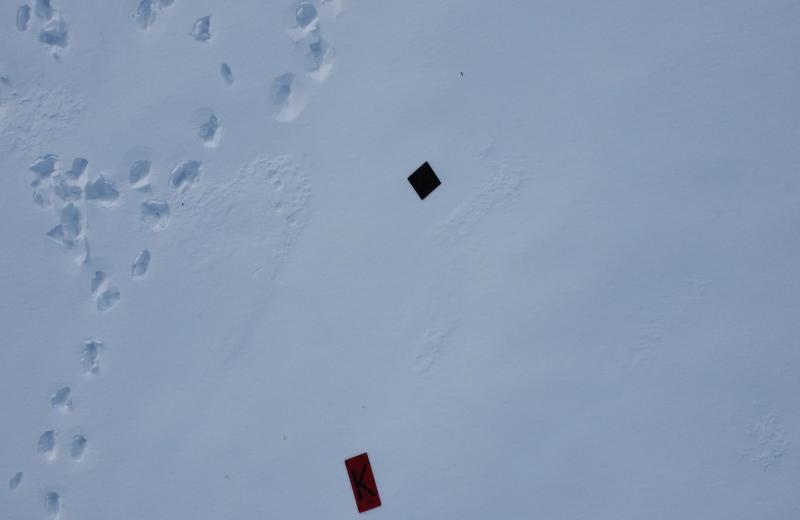Rectangle: (344, 452, 385, 515)
Square: (408, 162, 442, 201)
